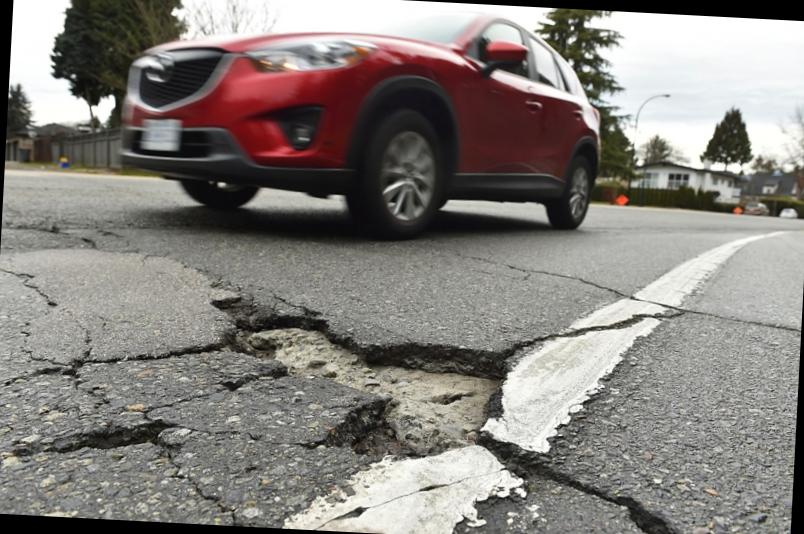pothole: (192, 281, 609, 496), (46, 403, 182, 473)
